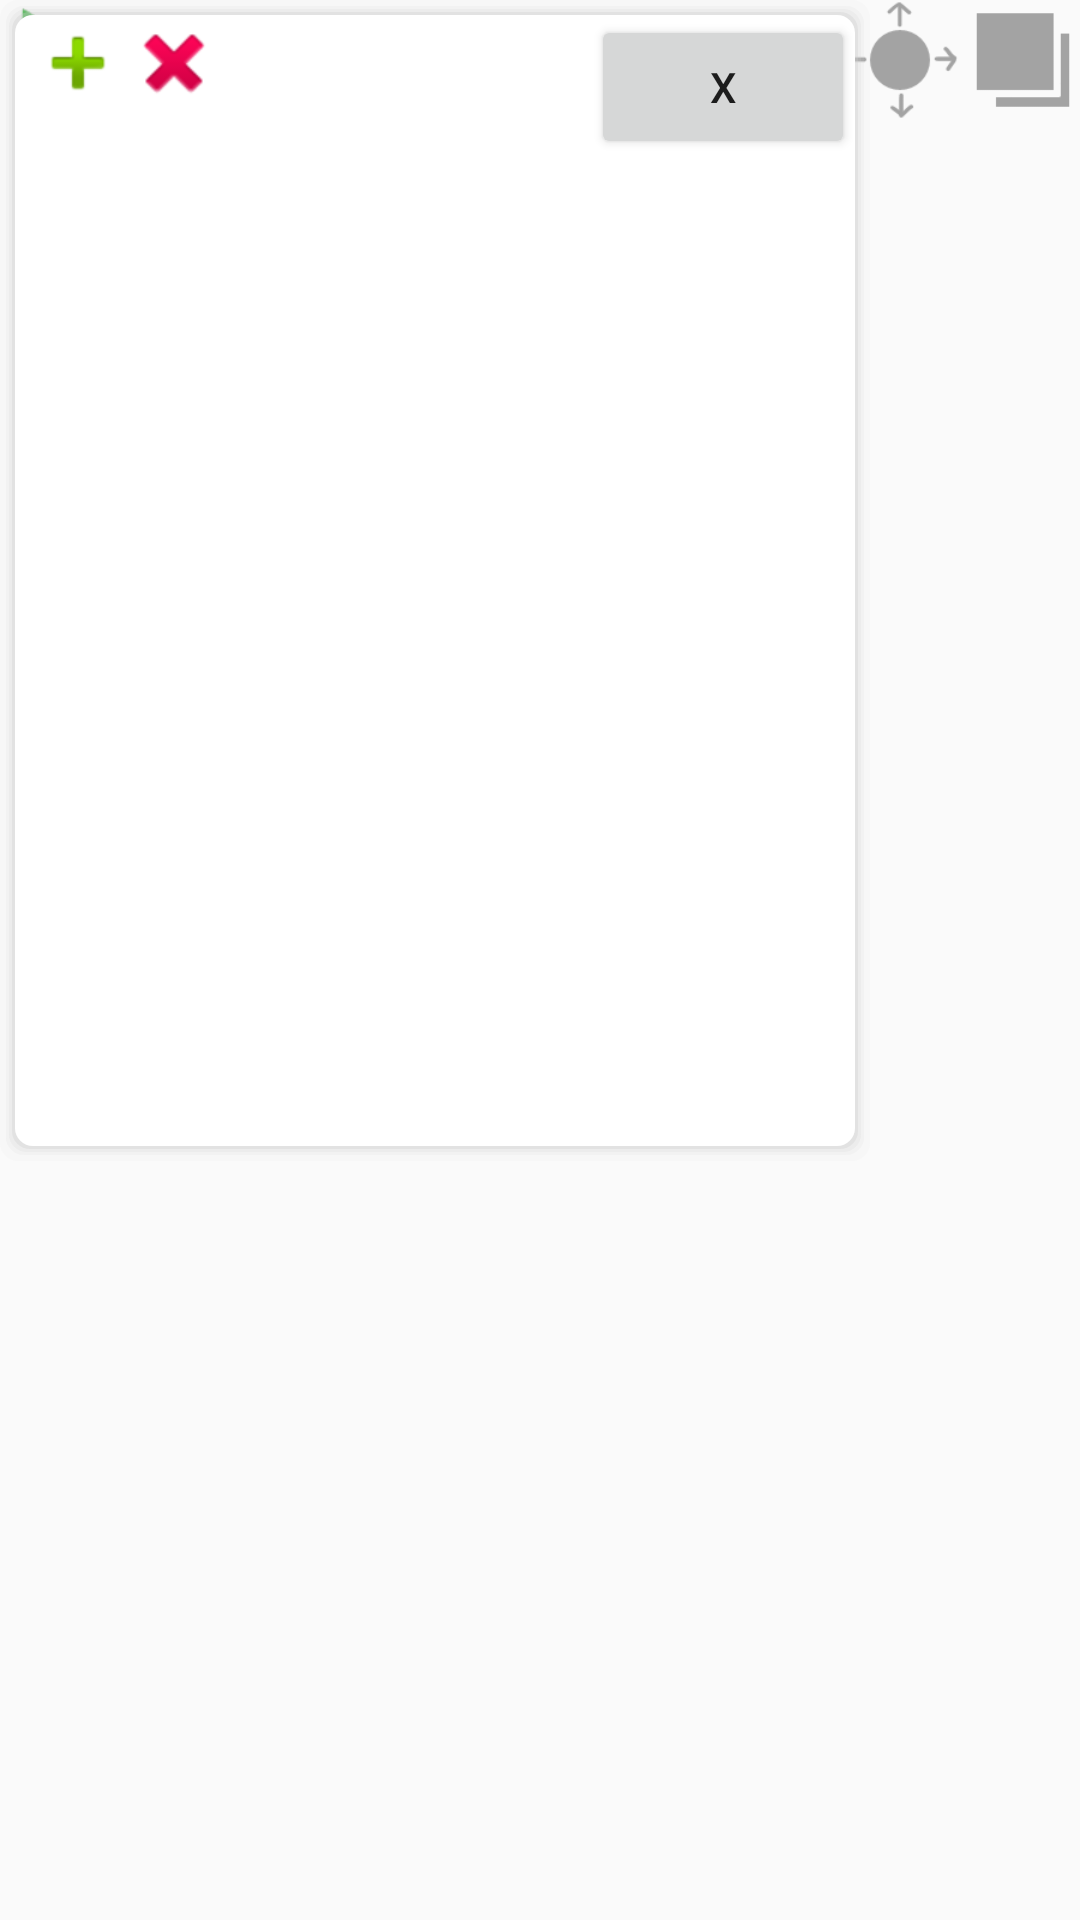

Icon click points for this 1080 × 1920 phone screenshot, format [x,y]:
delete: [174,63]
layer edit: [1023,60]
object edit: [913,60]
